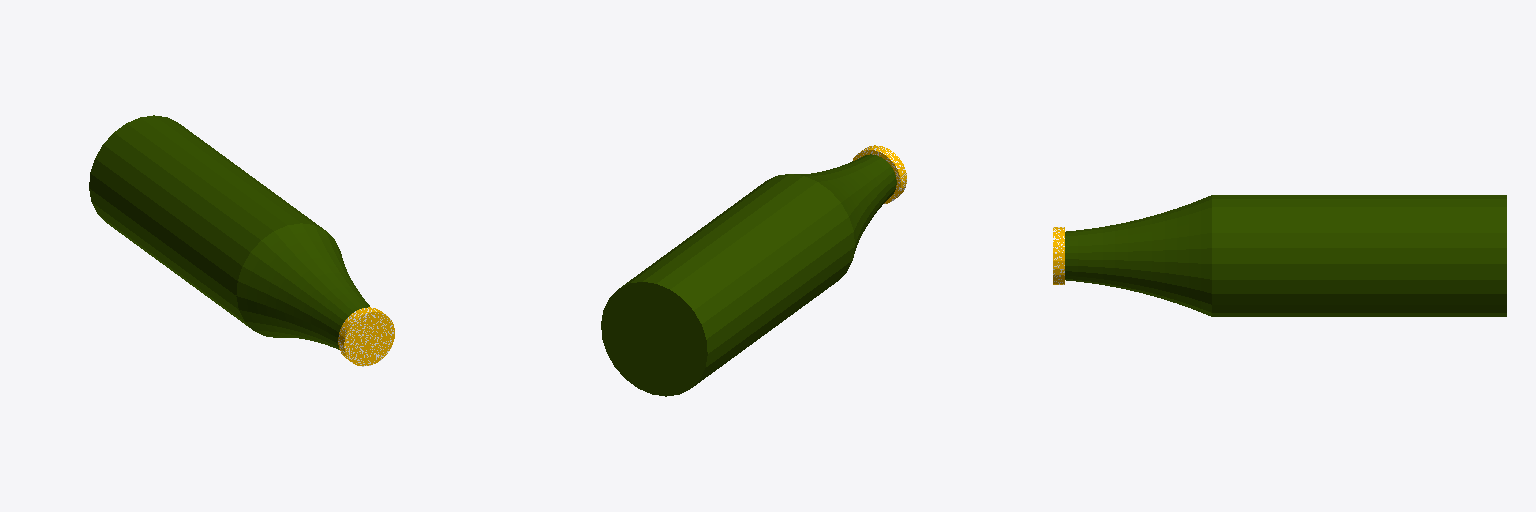
File: model_align.obj
3 views of the same model, side by side, from view 1: azimuth 30°, elevation 25°; view 2: azimuth 150°, elevation 25°; view 3: azimuth 270°, elevation 25° (orthographic).
Size of the model in its own units: 0.0695 by 0.0695 by 0.2564.